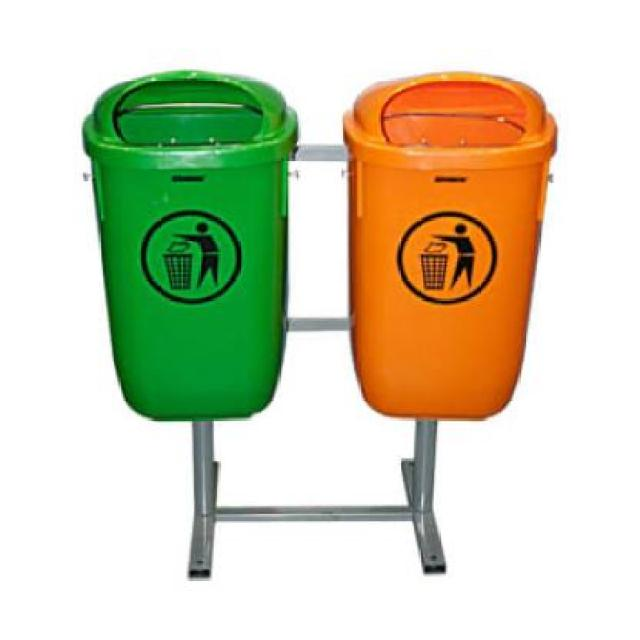garbage container: (328, 58, 566, 430), (78, 64, 313, 436)
